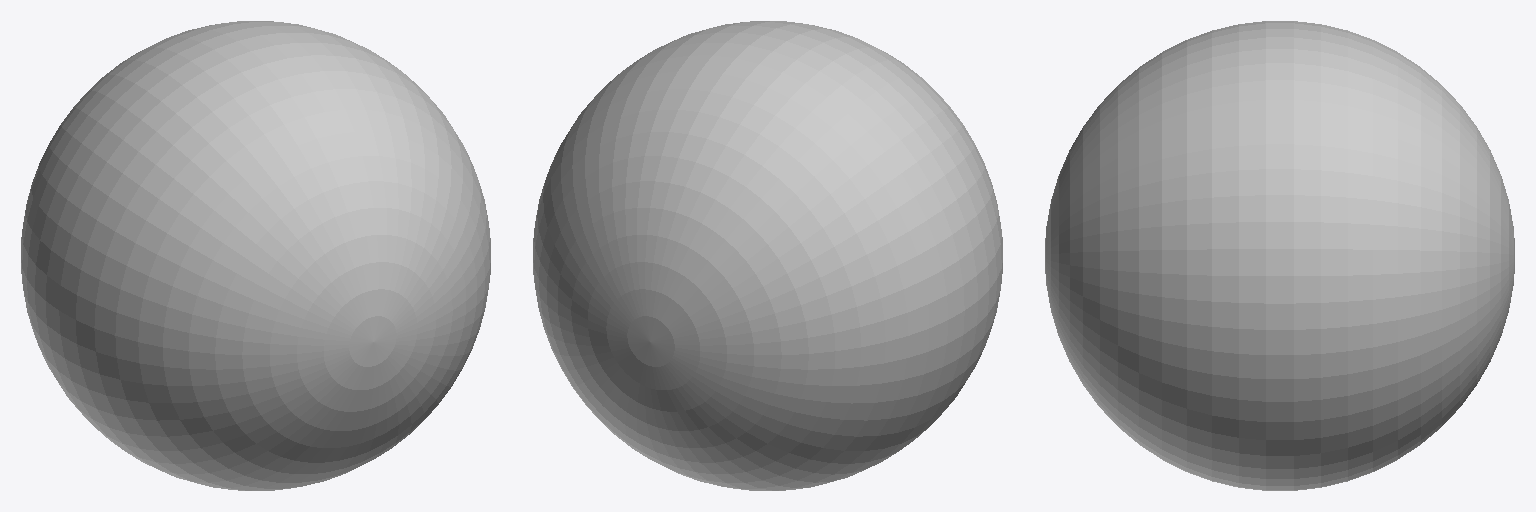
File: ball.obj
3 views of the same model, side by side, from view 1: azimuth 30°, elevation 25°; view 2: azimuth 150°, elevation 25°; view 3: azimuth 270°, elevation 25° (orthographic).
Parts seen in each view (by area): view 1: Srf1; view 2: Srf1; view 3: Srf1.
Boxes of the visible parts, x1,y1,x2,y2 form: Srf1: [21, 21, 490, 490]; Srf1: [533, 21, 1002, 490]; Srf1: [1045, 21, 1514, 490].
Bounding box in the file's own units: 24.96 × 24.92 × 25.